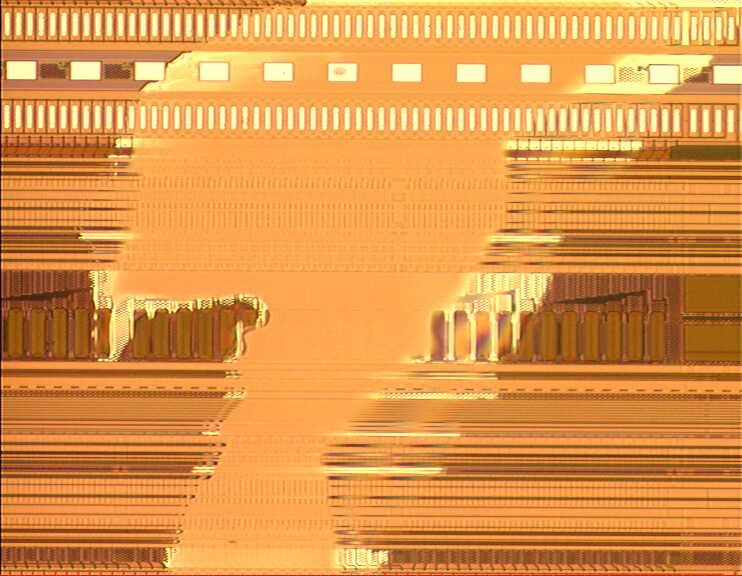COATING BAD: (66, 1, 742, 576)
